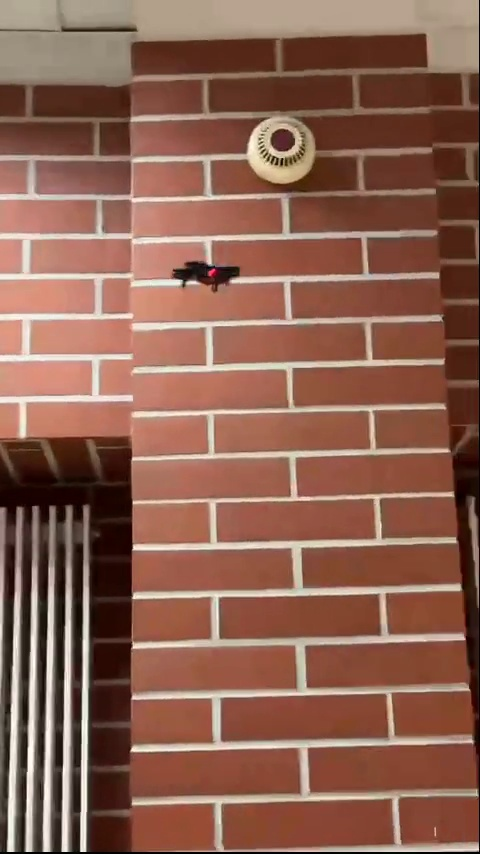drone: (172, 258, 243, 295)
